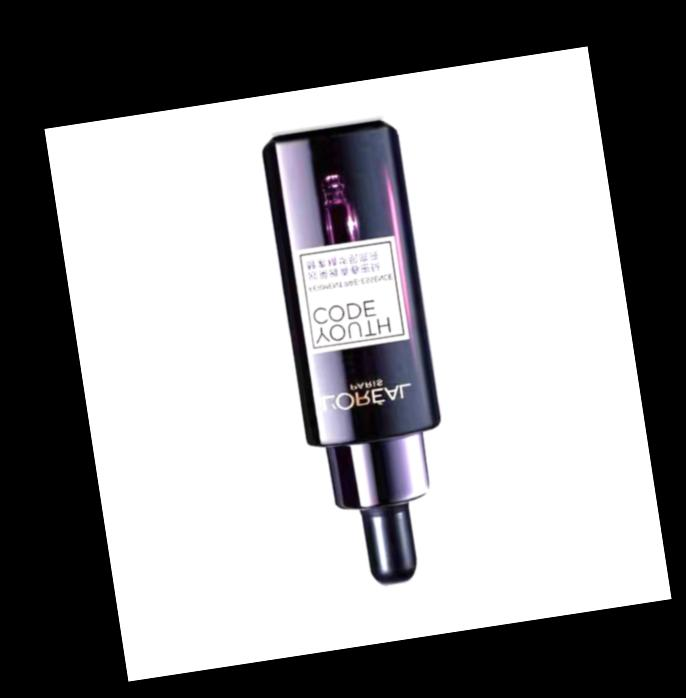cosmetic: (262, 118, 462, 593)
